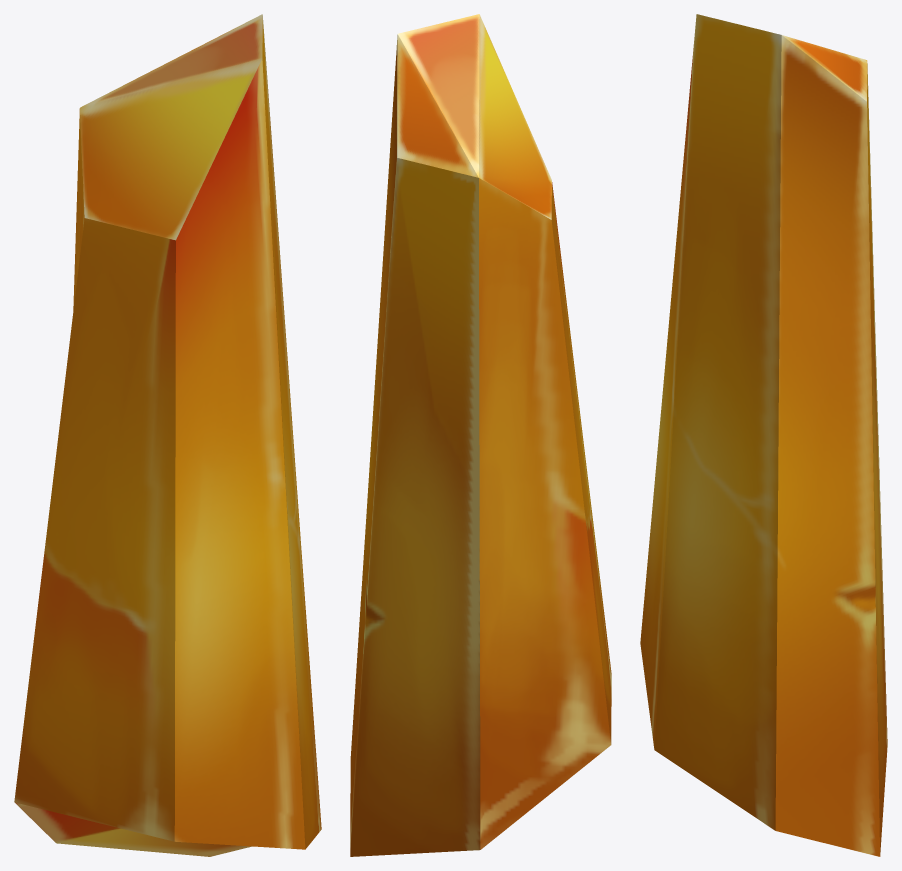
Rendered from Gem04.fbx.
3 renders of one model, left to right at view 1: azimuth 30°, elevation 25°; view 2: azimuth 150°, elevation 25°; view 3: azimuth 270°, elevation 25°, orthographic. The views are drawn at different scales.
Visible parts, largest first — view 1: Gem04; view 2: Gem04; view 3: Gem04.
Part boxes in pixels (x1,y1,x2,y2): Gem04: (14, 14, 321, 856); Gem04: (350, 14, 611, 856); Gem04: (640, 14, 887, 856).
Size of the model in its own units: 8.99 by 25.31 by 6.9.
